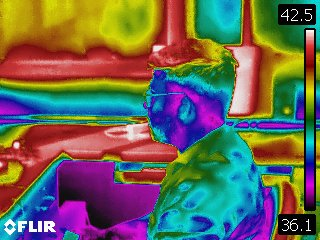human: (139, 36, 278, 240)
